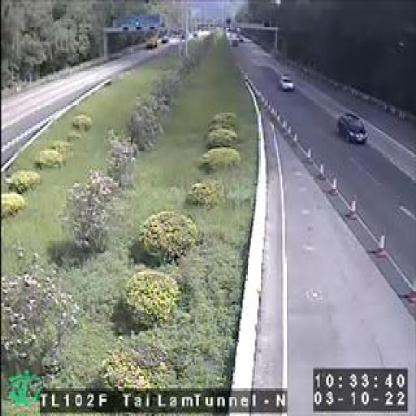Car: (334, 113, 368, 142), (277, 74, 296, 92)
